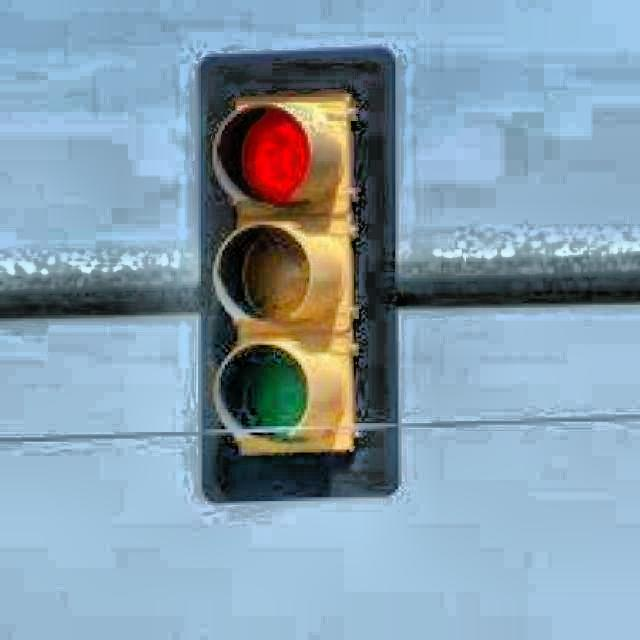red: (208, 90, 361, 478)
